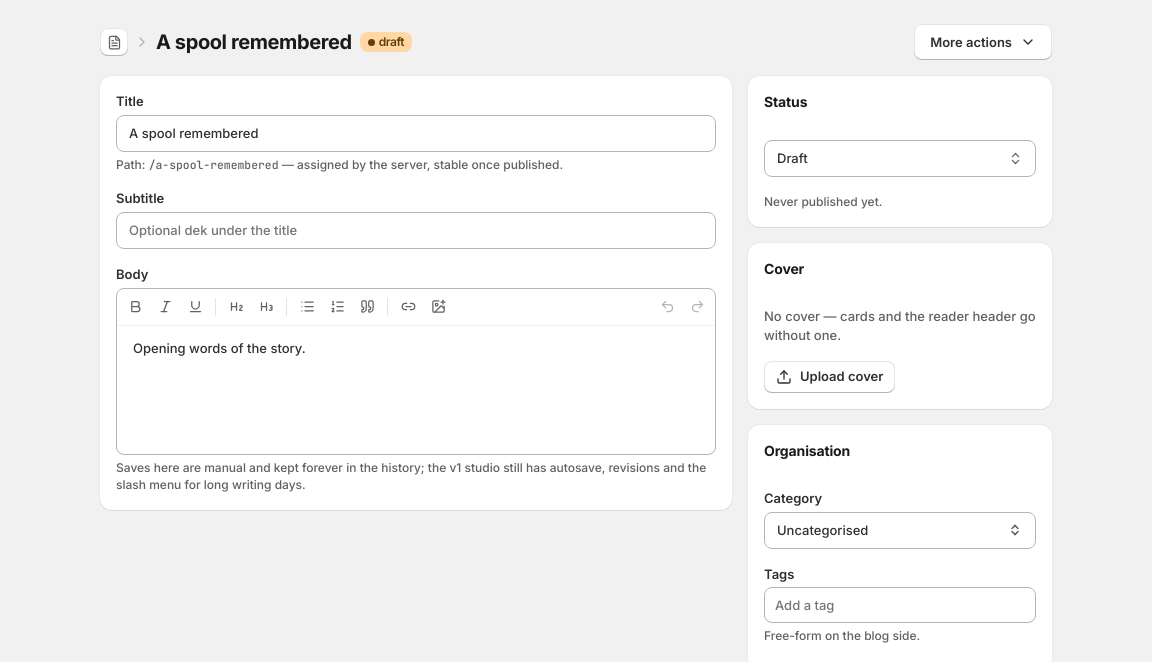
Test: the post editor › turns a 409 into the conflict banner, never a silent overwrite
This screenshot has width=1152, height=662.
Replace the text in the field labelled "Title" with "Mine now" at (416, 133), box [116,115,716,152]
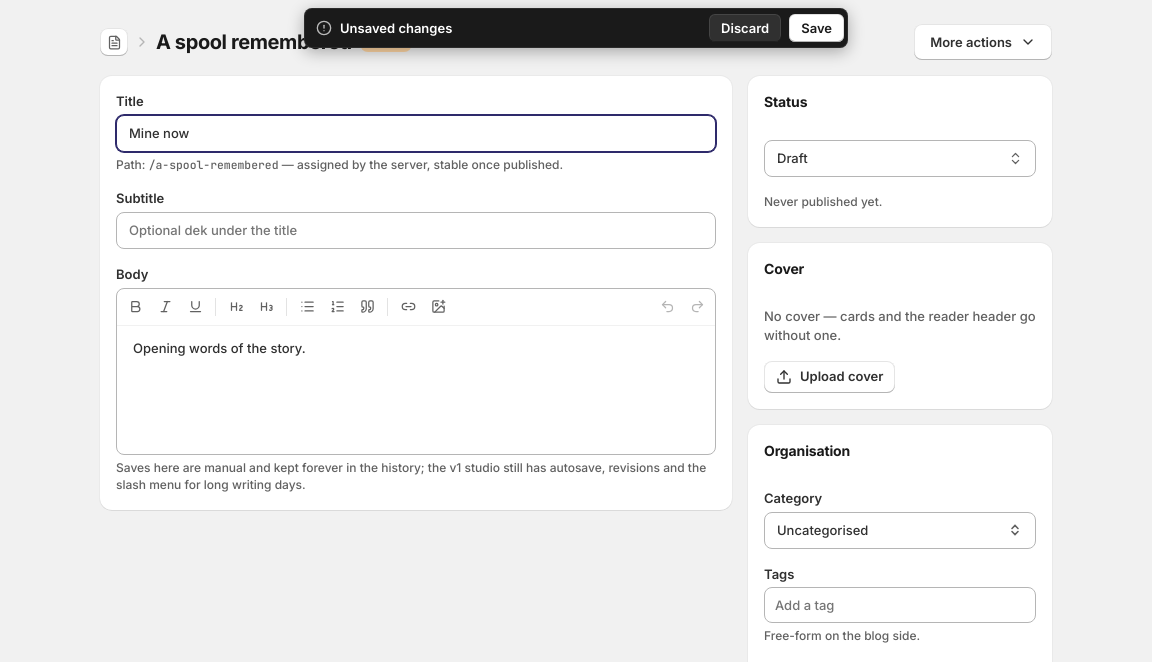
Click the button "Save" at (817, 28), box [789,14,844,42]
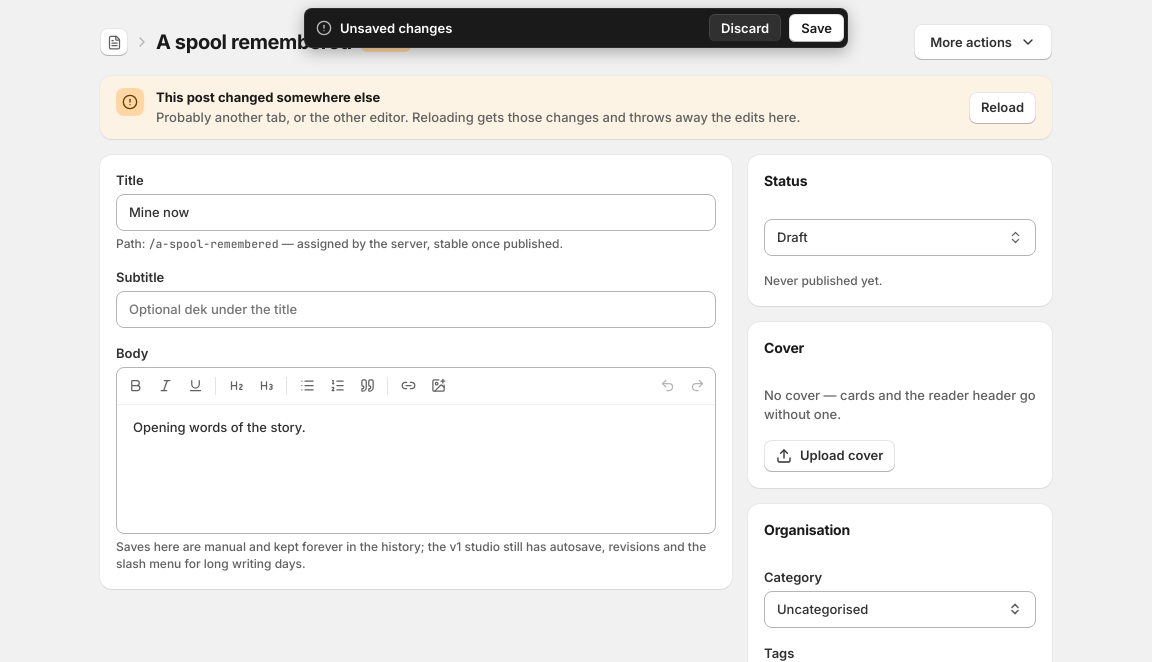
Now the text "This post changed somewhere else" is shown, box [156,89,380,105]
Now the button "Reload" is shown, box [969,92,1036,124]
